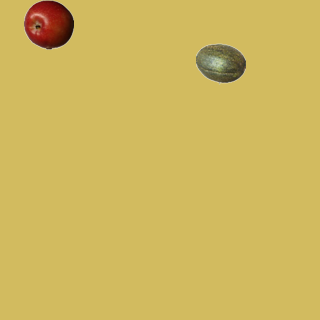Apple Braeburn: (23, 0, 73, 49)
Melon Piel de Sapo: (195, 38, 245, 88)
